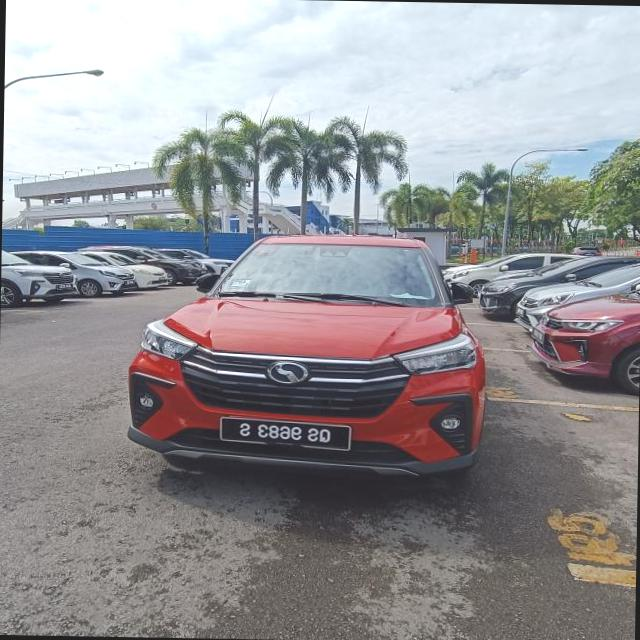PeroduaAtiva: (124, 228, 490, 480)
